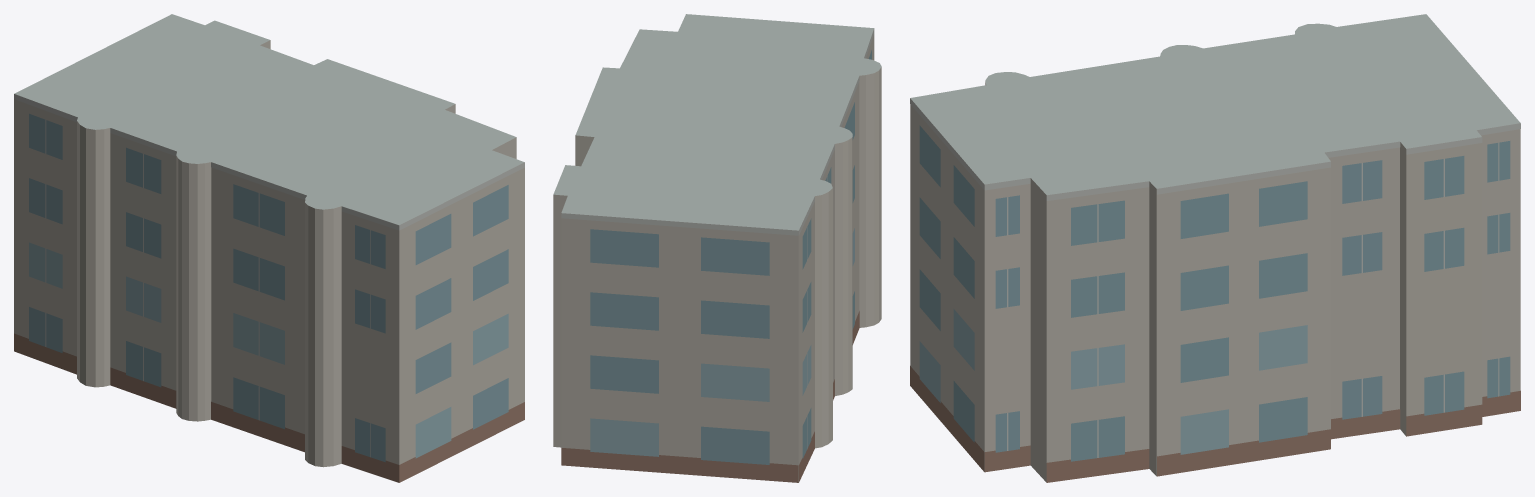
File: survey-upis-32850004.glb
3 views of the same model, side by side, from view 1: azimuth 30°, elevation 25°; view 2: azimuth 150°, elevation 25°; view 3: azimuth 270°, elevation 25° (orthographic). The views are drawn at different scales.
Parts seen in each view (by area): view 1: survey-upis-32850004.tmp; view 2: survey-upis-32850004.tmp; view 3: survey-upis-32850004.tmp.
Boxes of the visible parts, <box> form: survey-upis-32850004.tmp: <box>14,14,524,482</box>; survey-upis-32850004.tmp: <box>553,14,881,482</box>; survey-upis-32850004.tmp: <box>910,14,1520,482</box>.
Size of the model in its own units: 16.09 by 11.9 by 22.9.
